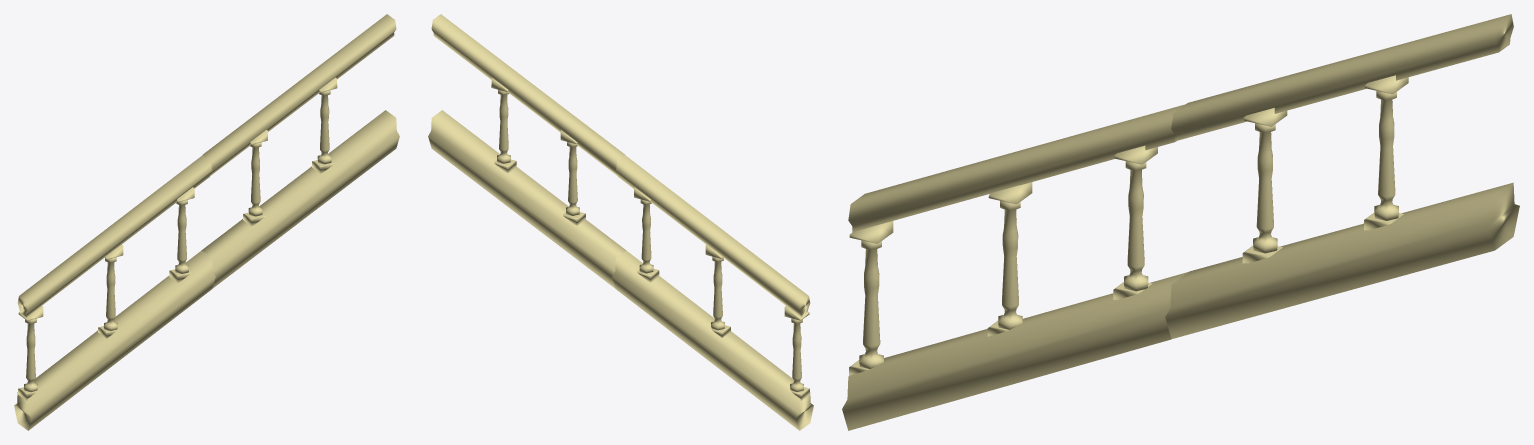
File: Stairs_Wood_01C_Lod0.fbx
3 renders of one model, left to right at view 1: azimuth 30°, elevation 25°; view 2: azimuth 150°, elevation 25°; view 3: azimuth 330°, elevation 25°, orthographic. The views are drawn at different scales.
Parts seen in each view (by area): view 1: Stairs_Wood_01C_Lod0; view 2: Stairs_Wood_01C_Lod0; view 3: Stairs_Wood_01C_Lod0.
Part boxes in pixels (left/top/right/bottom): Stairs_Wood_01C_Lod0: left=14, top=14, right=399, bottom=430; Stairs_Wood_01C_Lod0: left=428, top=14, right=813, bottom=430; Stairs_Wood_01C_Lod0: left=842, top=14, right=1519, bottom=430.
Bounding box in the file's own units: 301 × 250 × 25.19.
